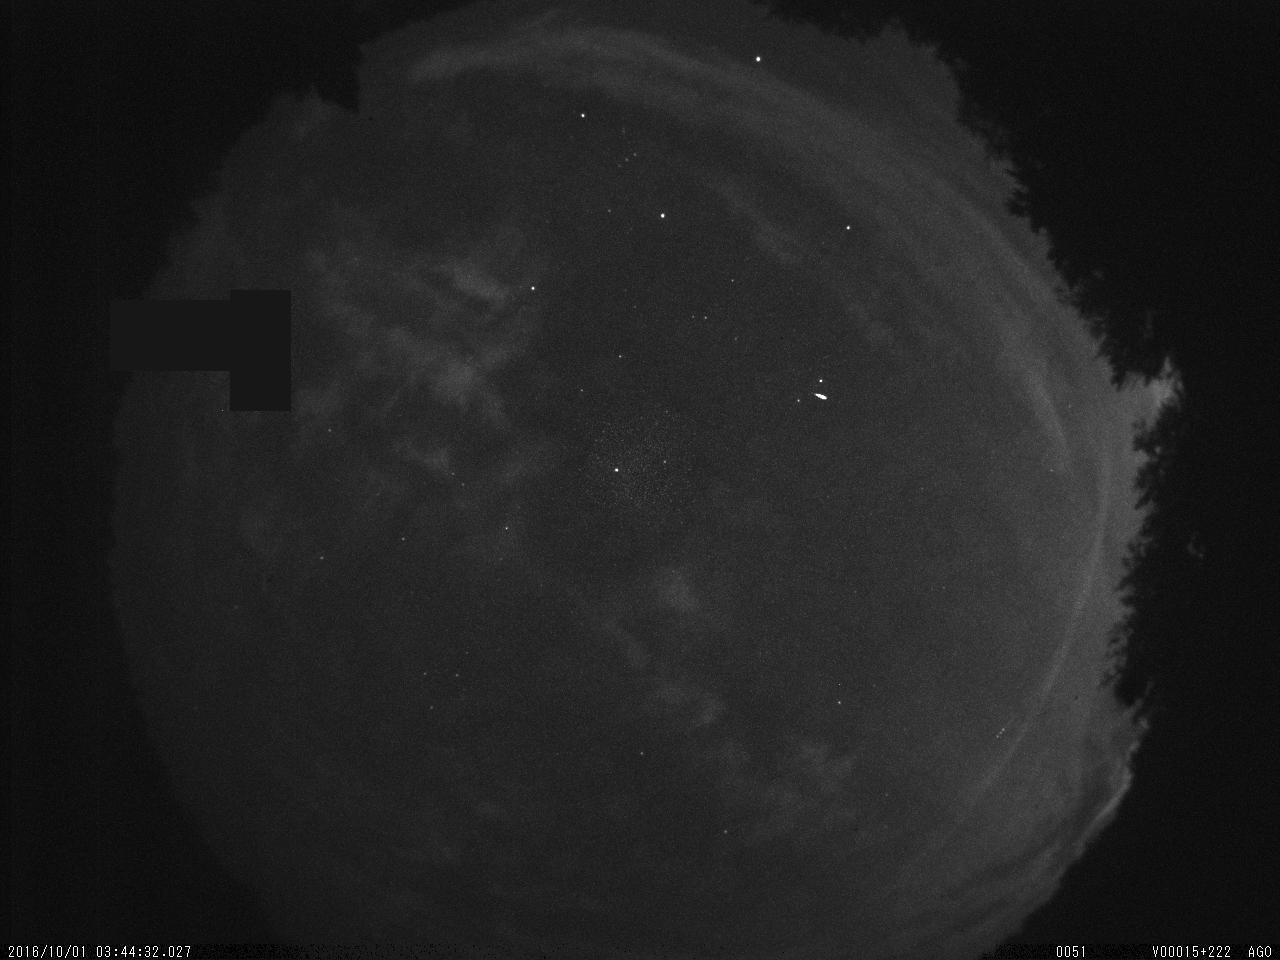meteor: (810, 387, 835, 407)
